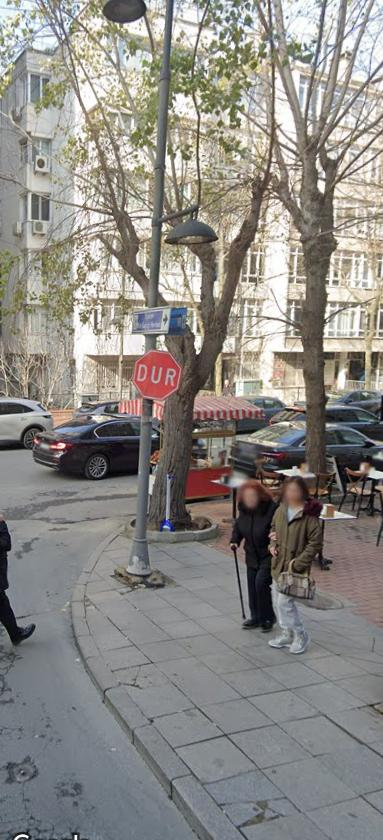stop: (135, 350, 179, 399)
